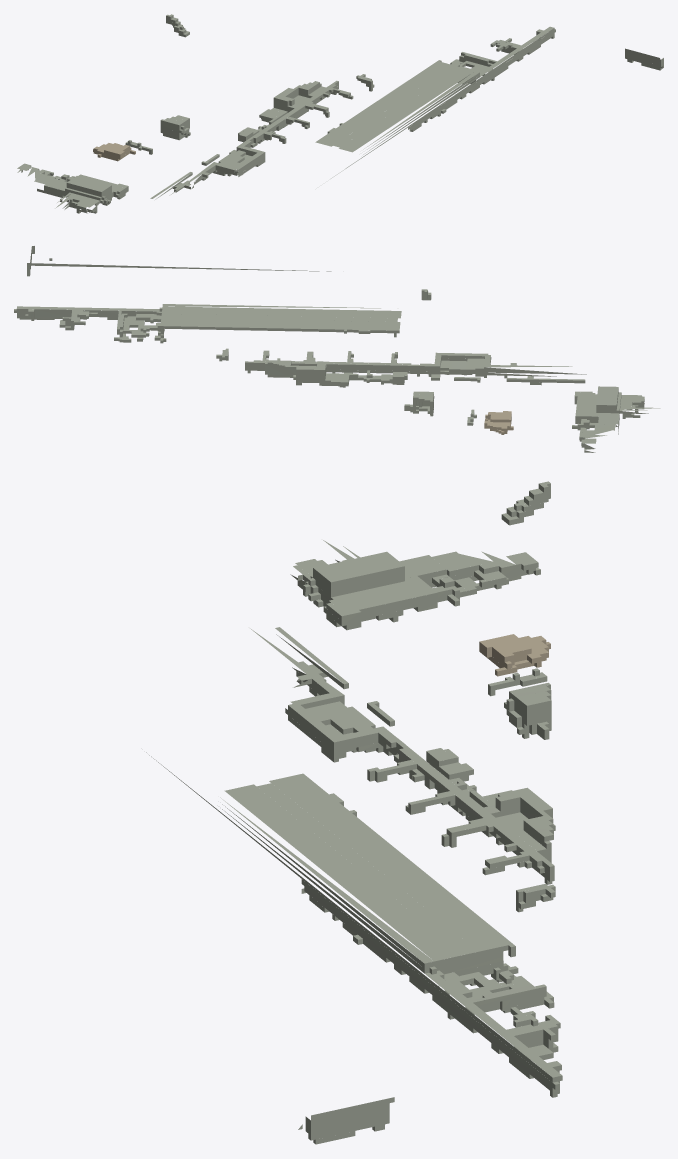
3 renders of one model, top to bottom at view 1: azimuth 30°, elevation 25°; view 2: azimuth 150°, elevation 25°; view 3: azimuth 270°, elevation 25°, orthographic. The views are drawn at different scales.
Parts seen in each view (by area): view 1: measured-industrial; view 2: measured-industrial; view 3: measured-industrial.
Boxes of the visible parts, x1,y1,x2,y2 form: measured-industrial: (17,14,663,213); measured-industrial: (14,246,660,452); measured-industrial: (146,481,562,1144).
Size of the model in its own units: 252 by 48.05 by 80.46.
